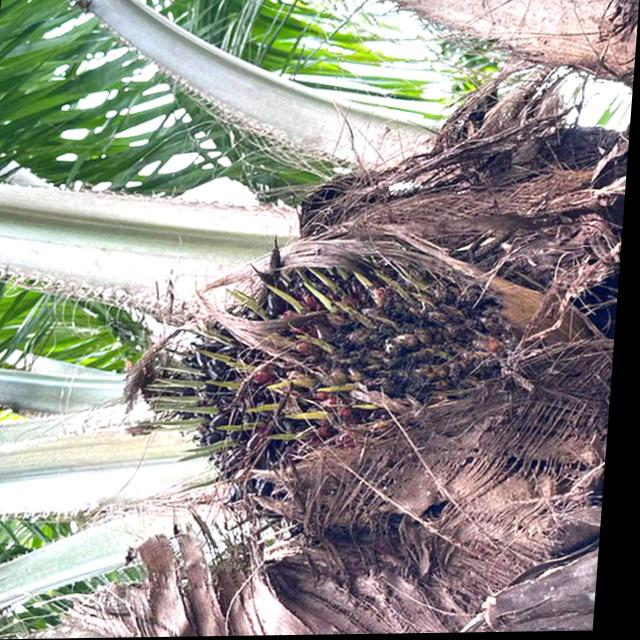unripe: (137, 253, 567, 498)
